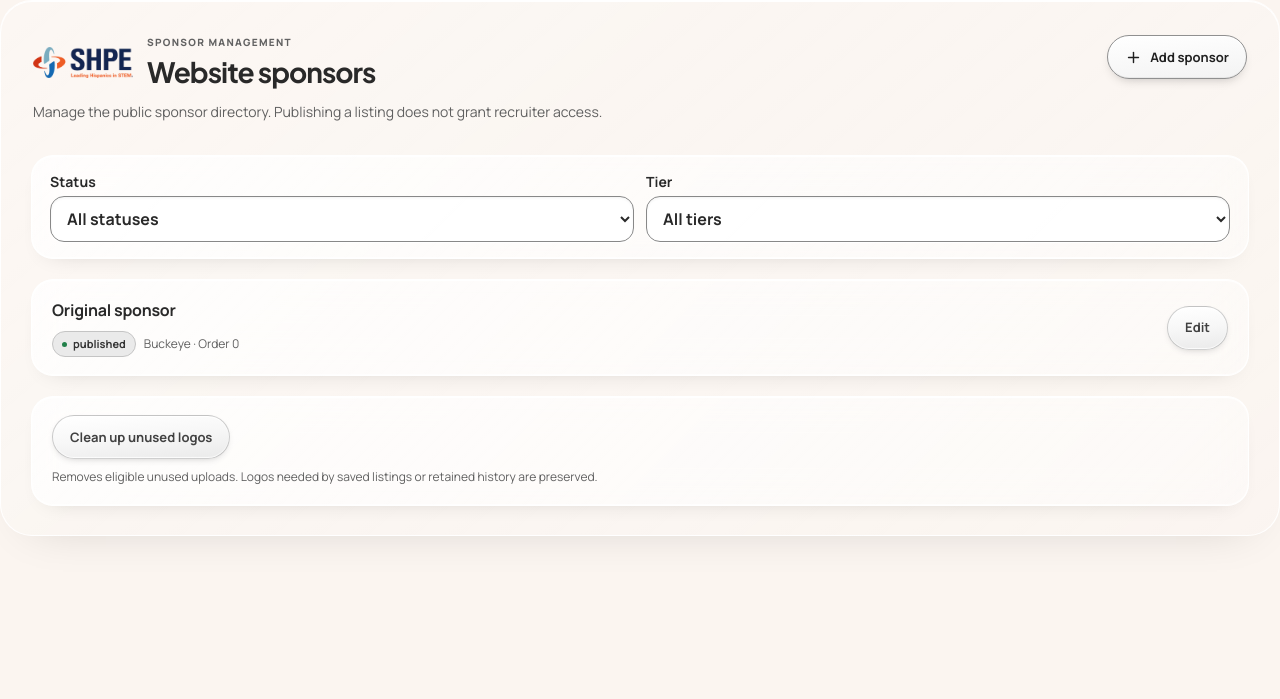
Scenario: sponsor editor interactions › closes from the header without saving edits and restores keyboard focus
Click the button with aria-label "Edit Original sponsor". click: (1198, 328)
box: top-left (1167, 306), bottom-right (1228, 350)
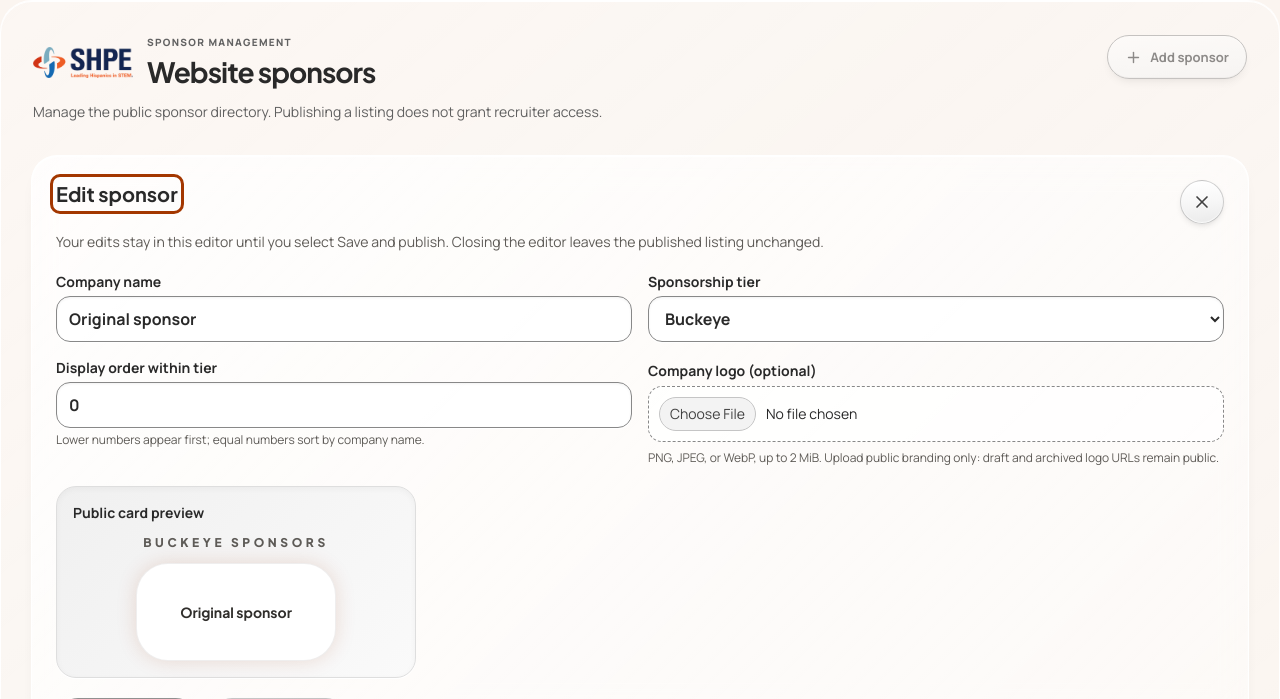
Replace the text in the field labelled "Company name" with "Unsaved name". click: (344, 319)
box: top-left (56, 296), bottom-right (632, 342)
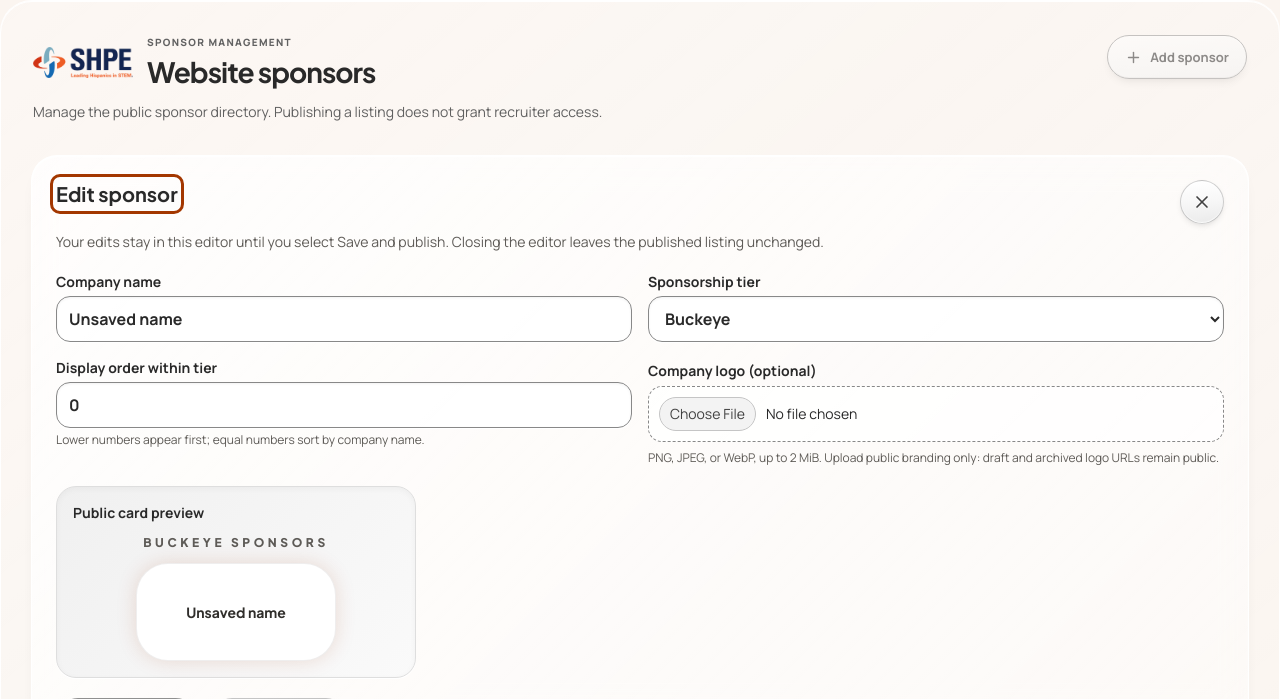
Click the button named "Close sponsor editor". click: (1202, 202)
box: top-left (1180, 180), bottom-right (1224, 224)
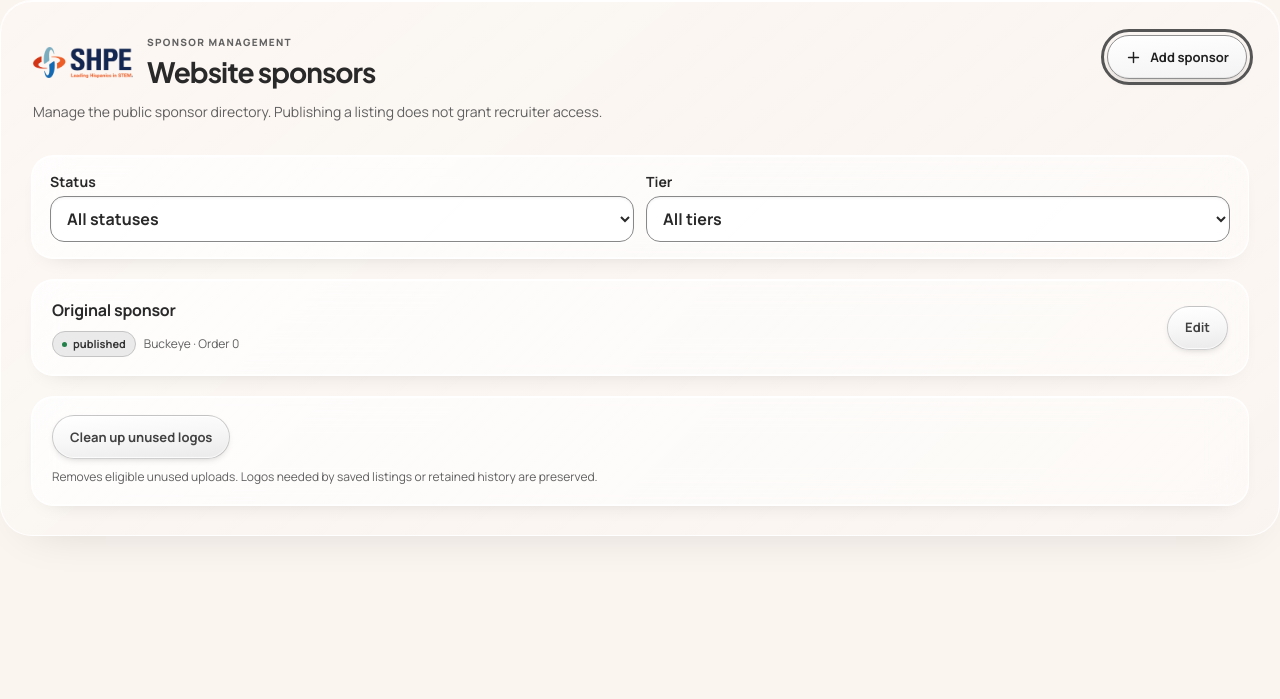
Expected: the heading "Edit sponsor" is gone
Click the button with aria-label "Edit Original sponsor". click: (1198, 328)
box: top-left (1167, 306), bottom-right (1228, 350)
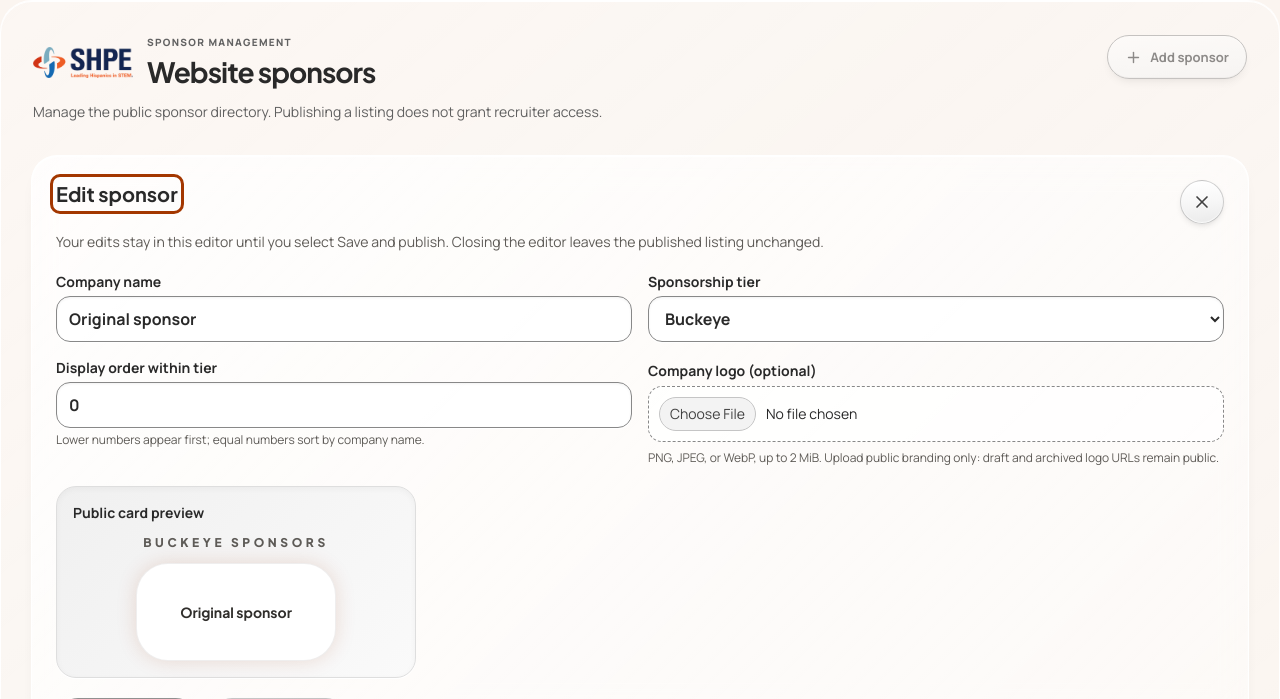
Expected: the field labelled "Company name" holds "Original sponsor", top-left (56, 296), bottom-right (632, 342)
